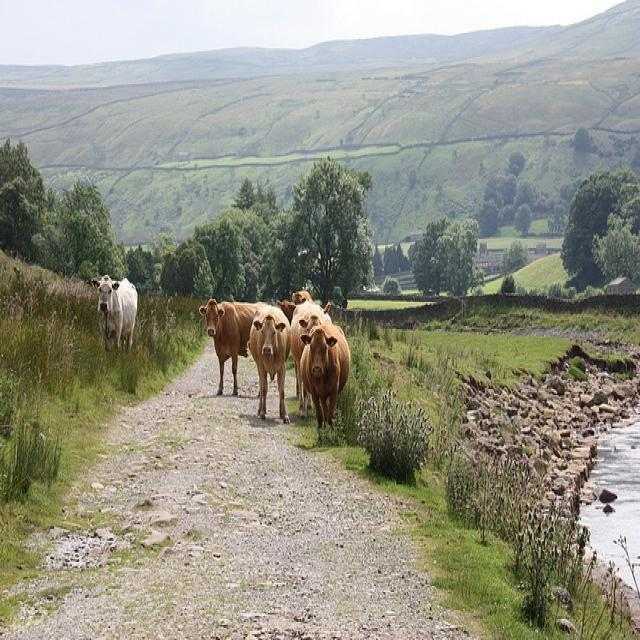cow: (197, 296, 266, 397), (298, 319, 348, 445), (247, 302, 291, 422), (288, 298, 331, 416), (95, 274, 137, 349), (275, 298, 295, 319), (291, 288, 312, 302)
